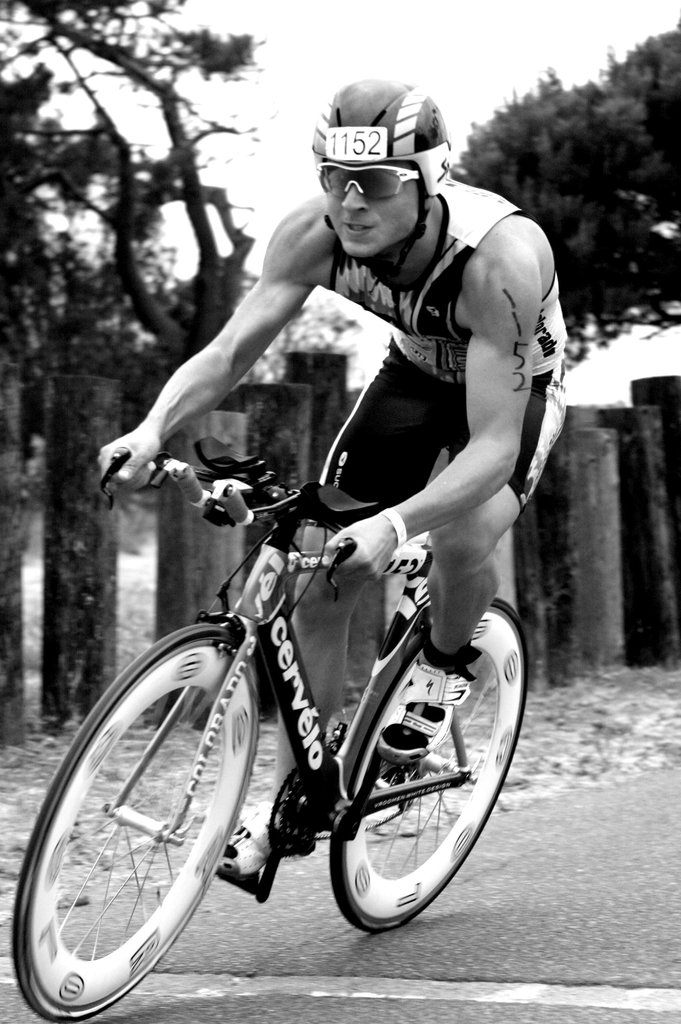Bike_toward: (11, 446, 536, 1020)
